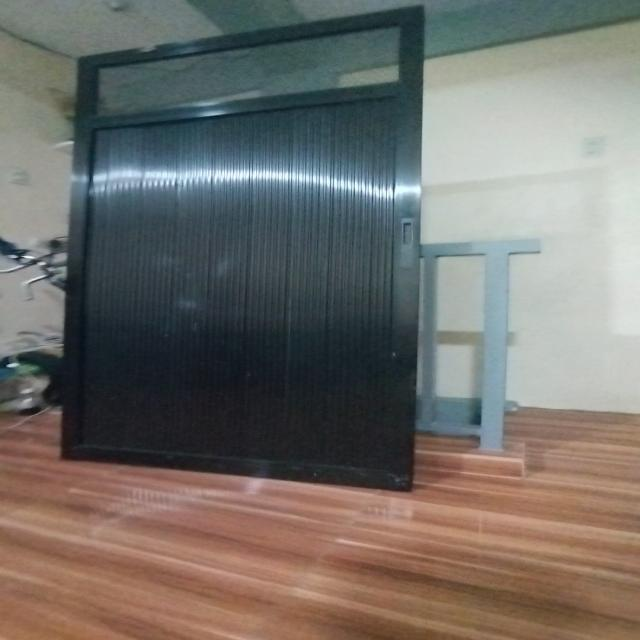door: (63, 1, 424, 492)
